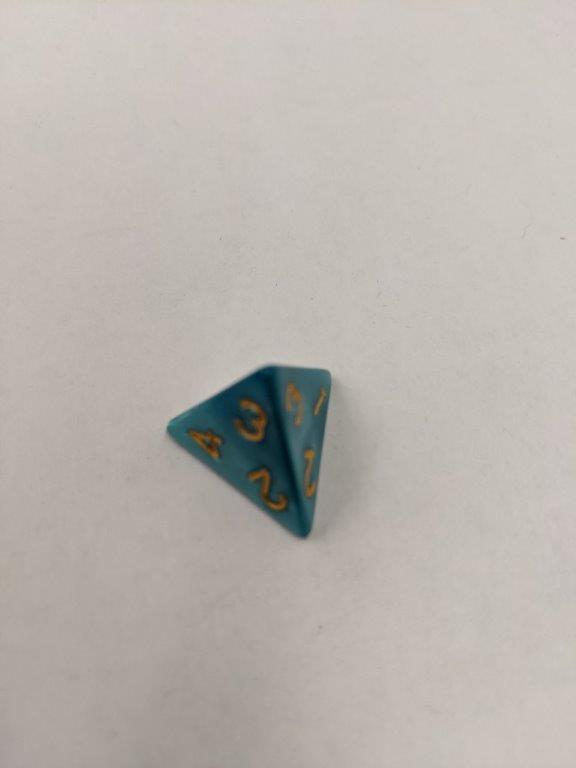d4-3: (160, 361, 336, 544)
